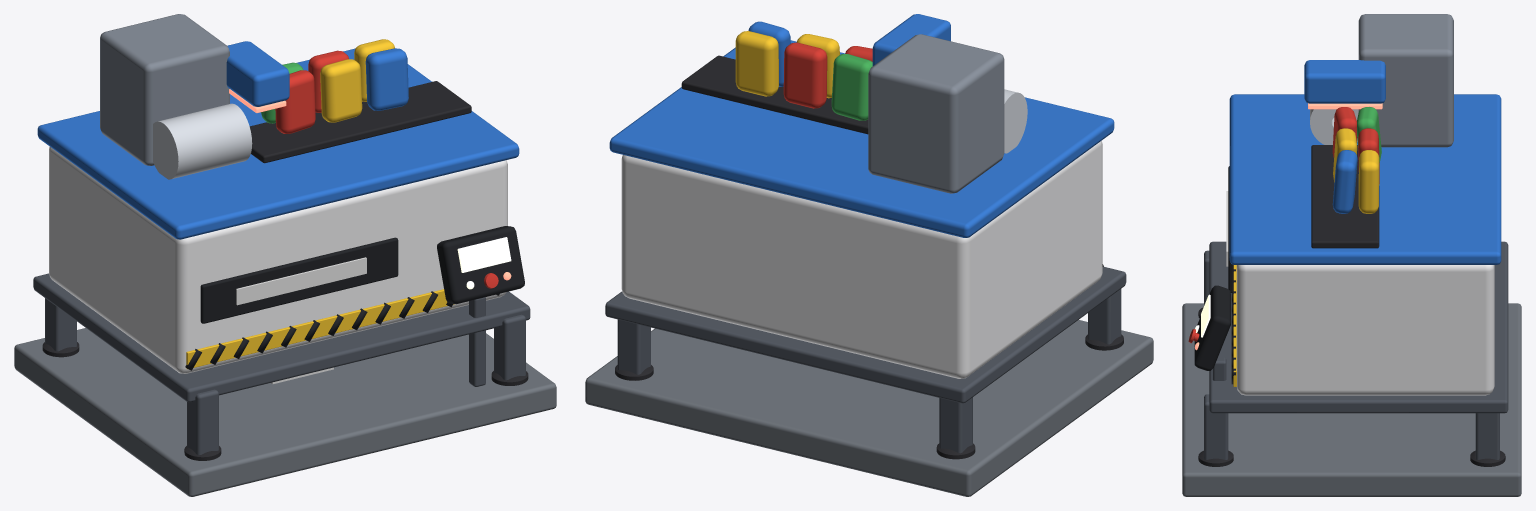
The model's file is Packer.fbx.
3 renders of one model, left to right at view 1: azimuth 30°, elevation 25°; view 2: azimuth 150°, elevation 25°; view 3: azimuth 270°, elevation 25°, orthographic. The views are drawn at different scales.
Parts seen in each view (by area): view 1: Body__White, Body__Plate, Body__Blue, Body__MetalDark, Body__Steel, Body__Black, Body__Rubber, Body__Yellow, Body__Chrome, Body__Red, Body__NeonCyan!1, Body__NeonGreen; view 2: Body__White, Body__Plate, Body__Blue, Body__Steel, Body__MetalDark, Body__Rubber, Body__Yellow, Body__Red, Body__Green, Body__Chrome; view 3: Body__Blue, Body__White, Body__Plate, Body__MetalDark, Body__Steel, Body__Rubber, Body__Black, Body__Yellow, Body__Red, Body__Chrome, Body__Green, Body__NeonRed.
Part boxes in pixels (left/top/right/bottom): Body__White: left=49, top=147, right=507, bottom=373; Body__Plate: left=14, top=328, right=556, bottom=496; Body__Blue: left=37, top=41, right=519, bottom=239; Body__MetalDark: left=33, top=273, right=530, bottom=455; Body__Steel: left=100, top=14, right=229, bottom=165; Body__Black: left=185, top=226, right=524, bottom=370; Body__Rubber: left=42, top=81, right=528, bottom=460; Body__Yellow: left=186, top=39, right=454, bottom=369; Body__Chrome: left=153, top=103, right=252, bottom=179; Body__Red: left=275, top=50, right=498, bottom=288; Body__NeonCyan!1: left=236, top=257, right=366, bottom=305; Body__NeonGreen: left=457, top=237, right=511, bottom=289; Body__White: left=621, top=141, right=1102, bottom=378; Body__Plate: left=585, top=320, right=1153, bottom=496; Body__Blue: left=609, top=14, right=1114, bottom=237; Body__Steel: left=868, top=34, right=1004, bottom=193; Body__MetalDark: left=605, top=266, right=1126, bottom=453; Body__Rubber: left=615, top=55, right=1123, bottom=459; Body__Yellow: left=735, top=31, right=839, bottom=98; Body__Red: left=783, top=42, right=872, bottom=108; Body__Green: left=831, top=54, right=872, bottom=120; Body__Chrome: left=1004, top=89, right=1027, bottom=153; Body__Blue: left=1229, top=60, right=1501, bottom=264; Body__White: left=1236, top=265, right=1494, bottom=395; Body__Plate: left=1182, top=303, right=1521, bottom=496; Body__MetalDark: left=1204, top=241, right=1508, bottom=459; Body__Steel: left=1358, top=14, right=1453, bottom=147; Body__Rubber: left=1198, top=145, right=1505, bottom=466; Body__Black: left=1194, top=166, right=1235, bottom=384; Body__Yellow: left=1233, top=128, right=1379, bottom=386; Body__Red: left=1188, top=107, right=1379, bottom=343; Body__Chrome: left=1310, top=109, right=1358, bottom=144; Body__Green: left=1357, top=107, right=1381, bottom=162; Body__NeonRed: left=1195, top=103, right=1382, bottom=350.
Size of the model in its own units: 6 by 5.99 by 5.
